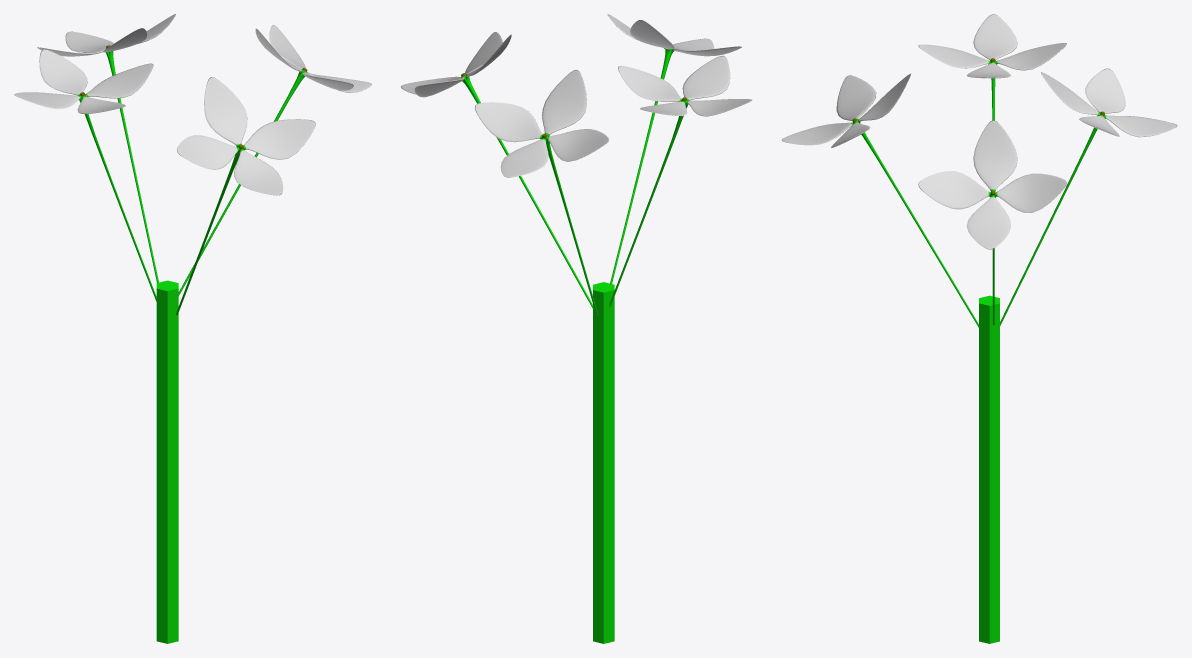
The model's file is whitelfower.fbx.
The picture shows the model from 3 angles, left to right: view 1: azimuth 30°, elevation 25°; view 2: azimuth 150°, elevation 25°; view 3: azimuth 270°, elevation 25°; orthographic projection. The views are drawn at different scales.
Visible parts, largest first — view 1: stem, whiteflower3, whiteflower2, whiteflower, whiteflower1; view 2: stem, whiteflower, whiteflower2, whiteflower3, whiteflower1; view 3: whiteflower1, stem, whiteflower, whiteflower3, whiteflower2.
Part boxes in pixels (<box>): stem: <box>156,280,178,643</box>; whiteflower3: <box>176,77,315,315</box>; whiteflower2: <box>14,49,156,301</box>; whiteflower: <box>37,14,175,282</box>; whiteflower1: <box>178,25,371,295</box>; stem: <box>593,282,614,643</box>; whiteflower: <box>474,70,609,317</box>; whiteflower2: <box>609,55,751,306</box>; whiteflower3: <box>607,14,741,283</box>; whiteflower1: <box>400,32,592,308</box>; whiteflower1: <box>918,120,1066,325</box>; stem: <box>979,295,999,643</box>; whiteflower: <box>1000,68,1177,325</box>; whiteflower3: <box>781,73,978,327</box>; whiteflower2: <box>918,14,1066,120</box>.
Size of the model in its own units: 67.83 by 108 by 68.54.
